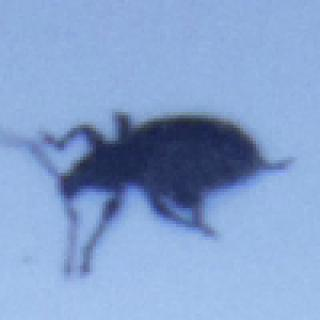bvw: (0, 108, 301, 274)
